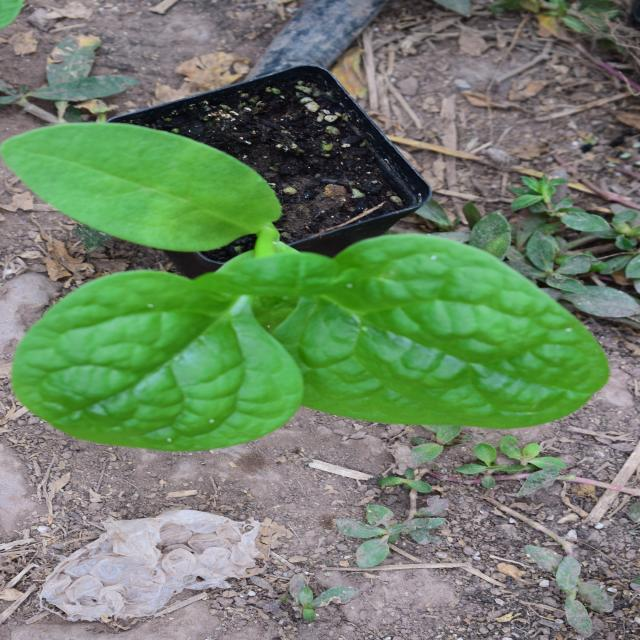Ceylon spinach: (112, 66, 466, 594)
